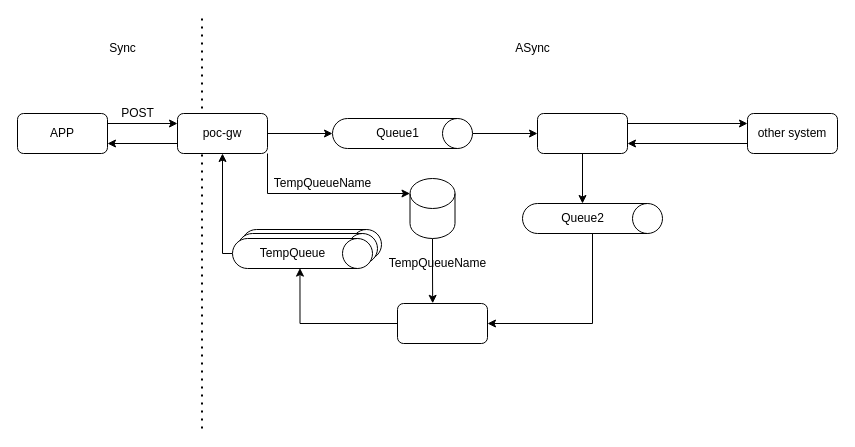
The diagram is 855 pixels wide and 447 high, and some of its shapes have lost their labels. The shapes that lost their labels are listed below. From the top down, each one's centre as x and y in pixels, then its label:
At pixel 582 133: "poc-socket".
At pixel 432 208: "Redis".
At pixel 442 323: "poc-resp".
